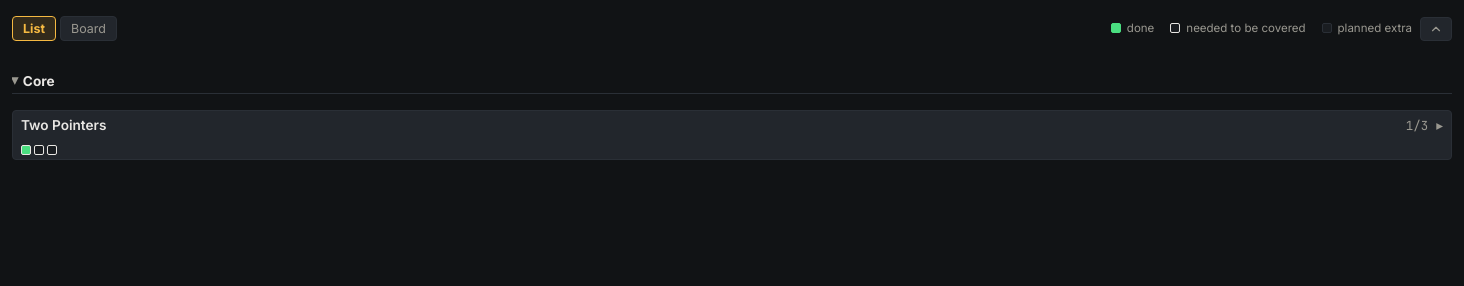
Scenario: TechniqueListComponent › renders both method variants of one LC number when rows names both
Step 1. Click the button with class "tech-row__toggle" → (64, 125), box x1=13 y1=111 x2=1451 y2=159
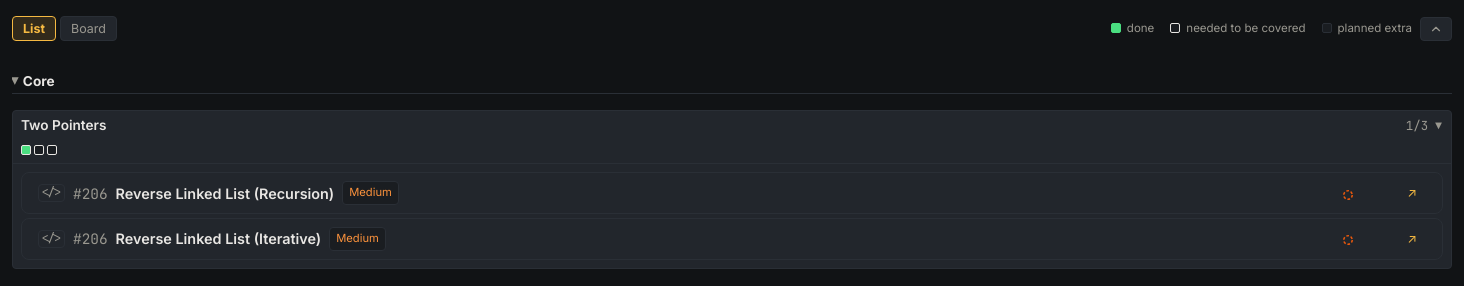
Expected: the list item with class "tech-row__problem" shows "Reverse Linked List (Recursion)", x1=116 y1=184 x2=334 y2=202
Expected: the list item with class "tech-row__problem" shows "Reverse Linked List (Iterative)", x1=116 y1=230 x2=321 y2=247
